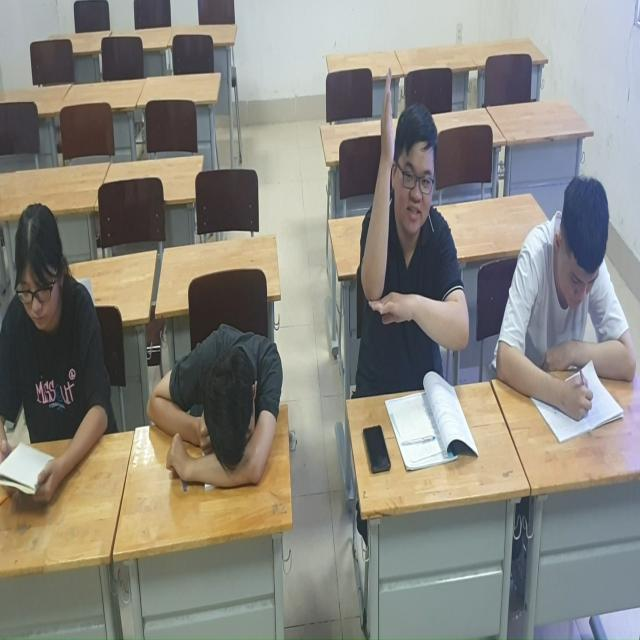raise_hand: (355, 70, 472, 399)
read: (497, 172, 636, 438), (1, 204, 111, 503)
sleep: (150, 319, 286, 491)
